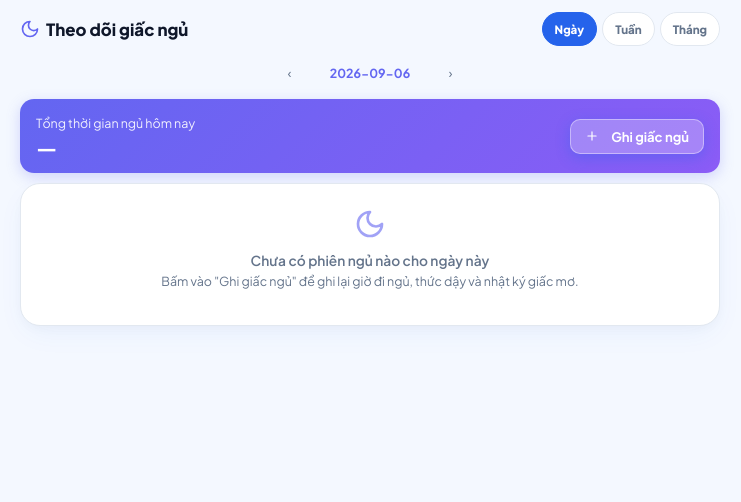
SleepPage (Theo dõi giấc ngủ) › chuyển sang xem theo tuần hiển thị lịch sử giấc ngủ
Click the button "Tuần" at [628, 29], box [602, 12, 655, 46]
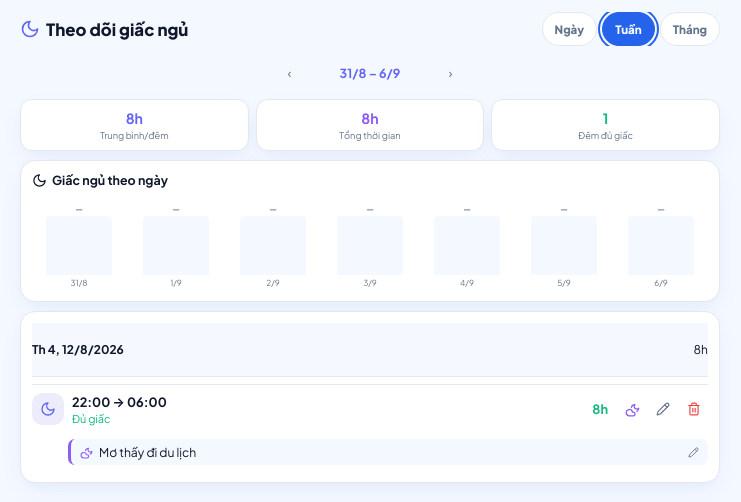
Now the text "22:00 → 06:00" is shown, box [72, 394, 167, 410]
Now the text "Đêm đủ giấc" is shown, box [578, 129, 633, 141]
